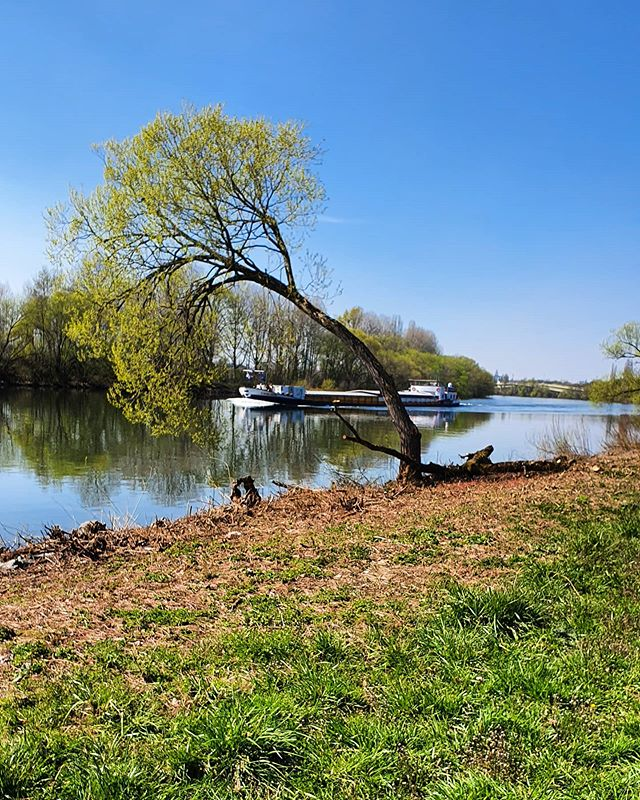boat: (243, 375, 468, 414)
grass: (1, 471, 640, 800)
river: (20, 378, 623, 533)
sky: (1, 1, 640, 333)
tree: (44, 105, 457, 478)
